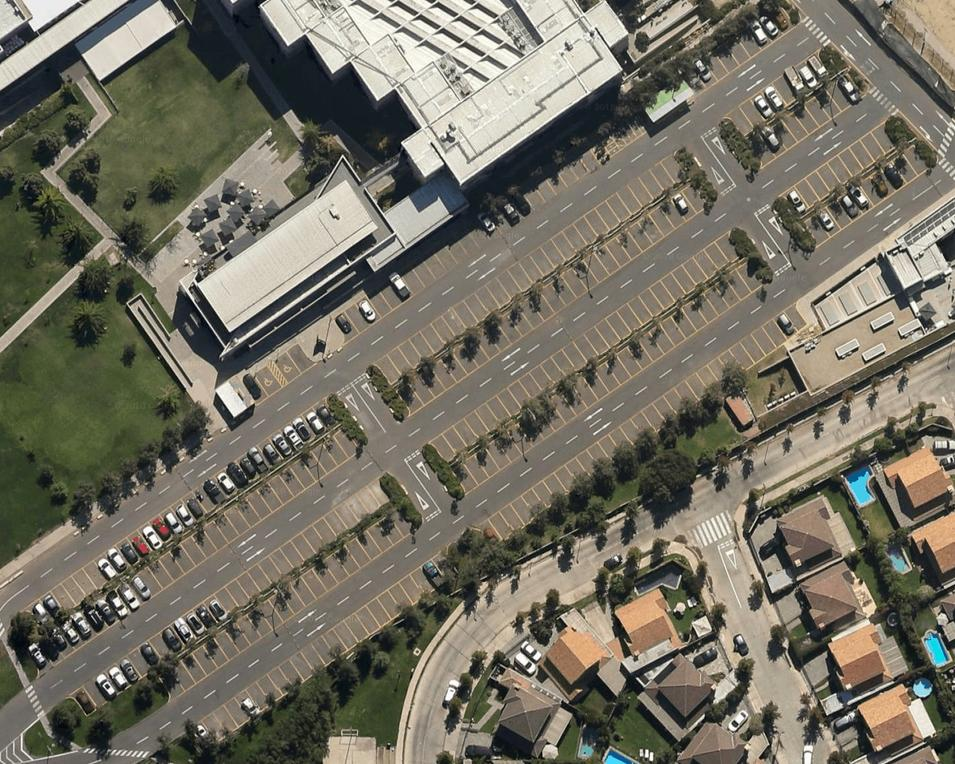parkingspot: (27, 427, 363, 677), (475, 301, 809, 550), (68, 477, 395, 717), (371, 150, 692, 387), (427, 229, 743, 466), (451, 260, 765, 498), (394, 182, 711, 417), (25, 397, 341, 631), (333, 137, 603, 345), (155, 507, 417, 703), (187, 557, 449, 743), (801, 143, 935, 249), (745, 68, 869, 170), (778, 121, 901, 220), (682, 3, 798, 99), (721, 49, 834, 141), (271, 341, 317, 385), (241, 364, 285, 407)
